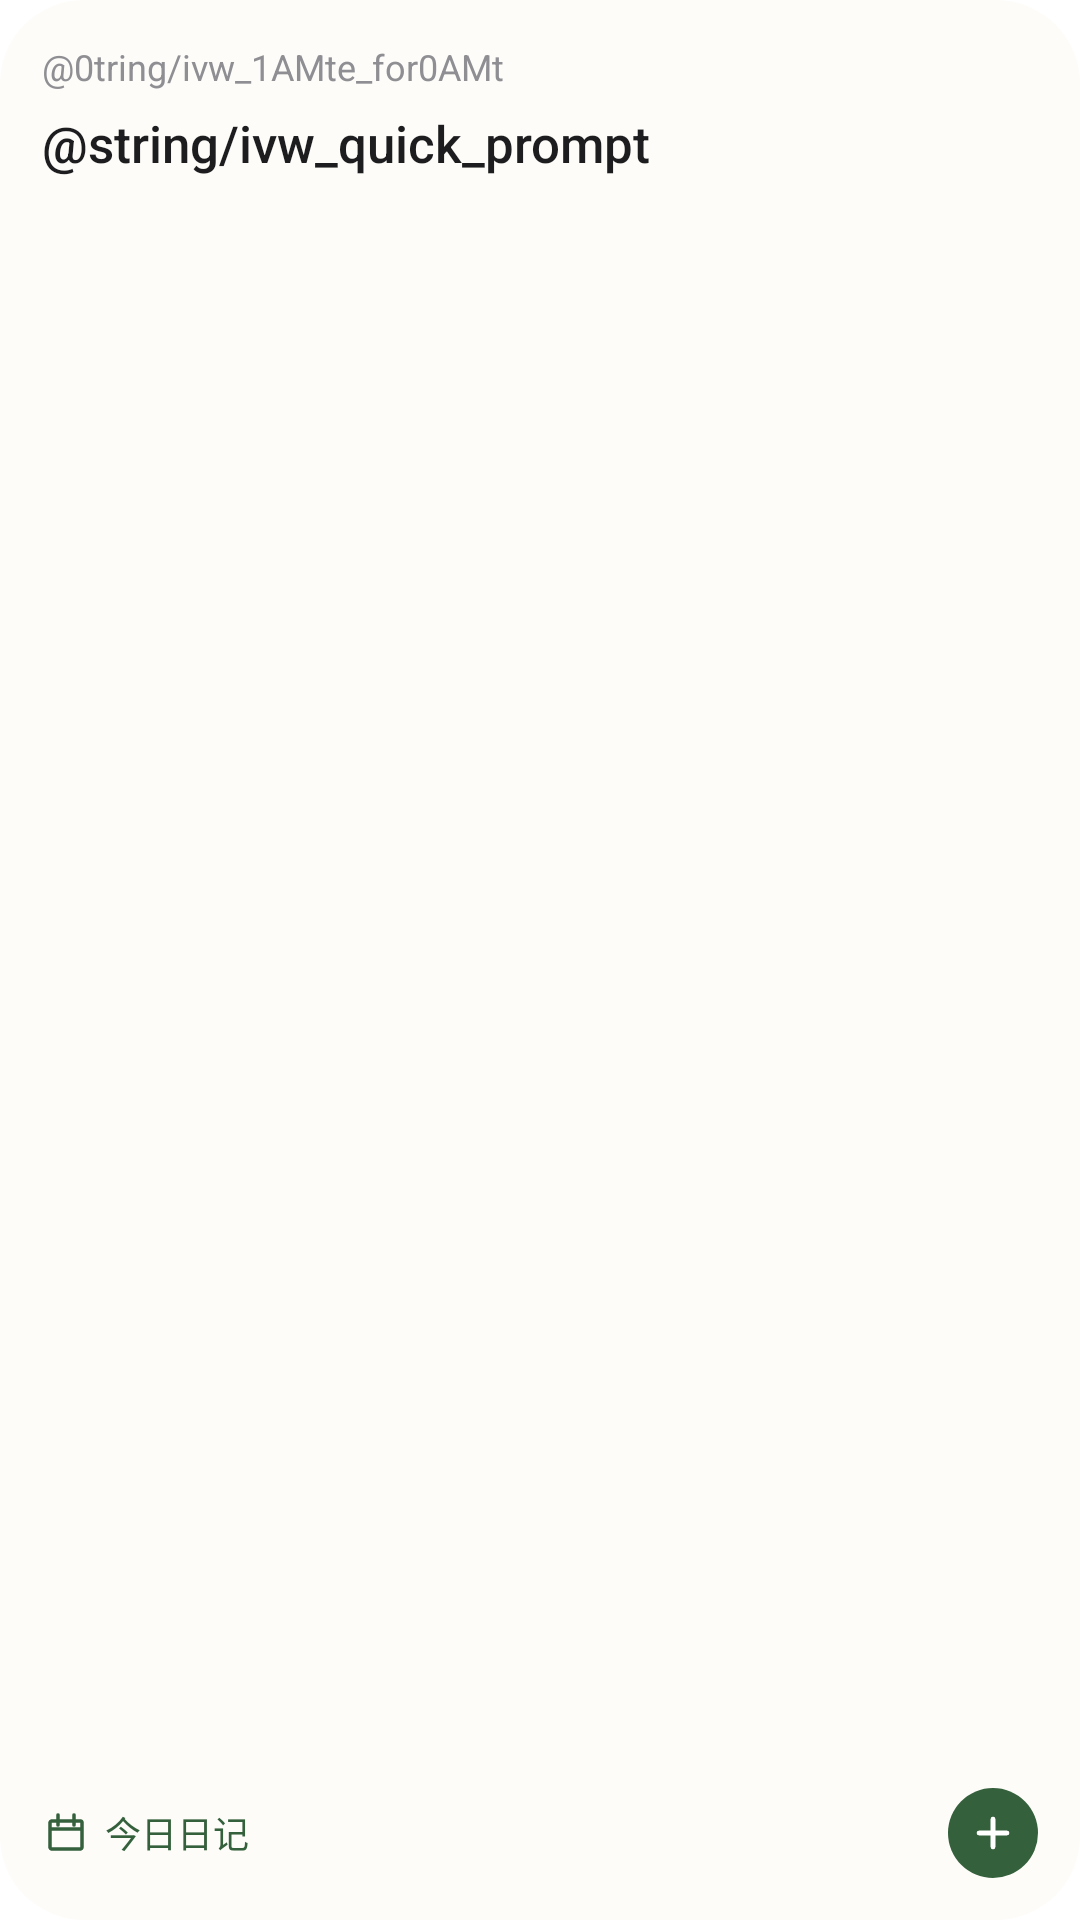

Named icons in this screenshot (1080 × 1920) and their bounding boxes, region(x1, y1, x2, y2):
新建笔记: region(948, 1788, 1038, 1878)
